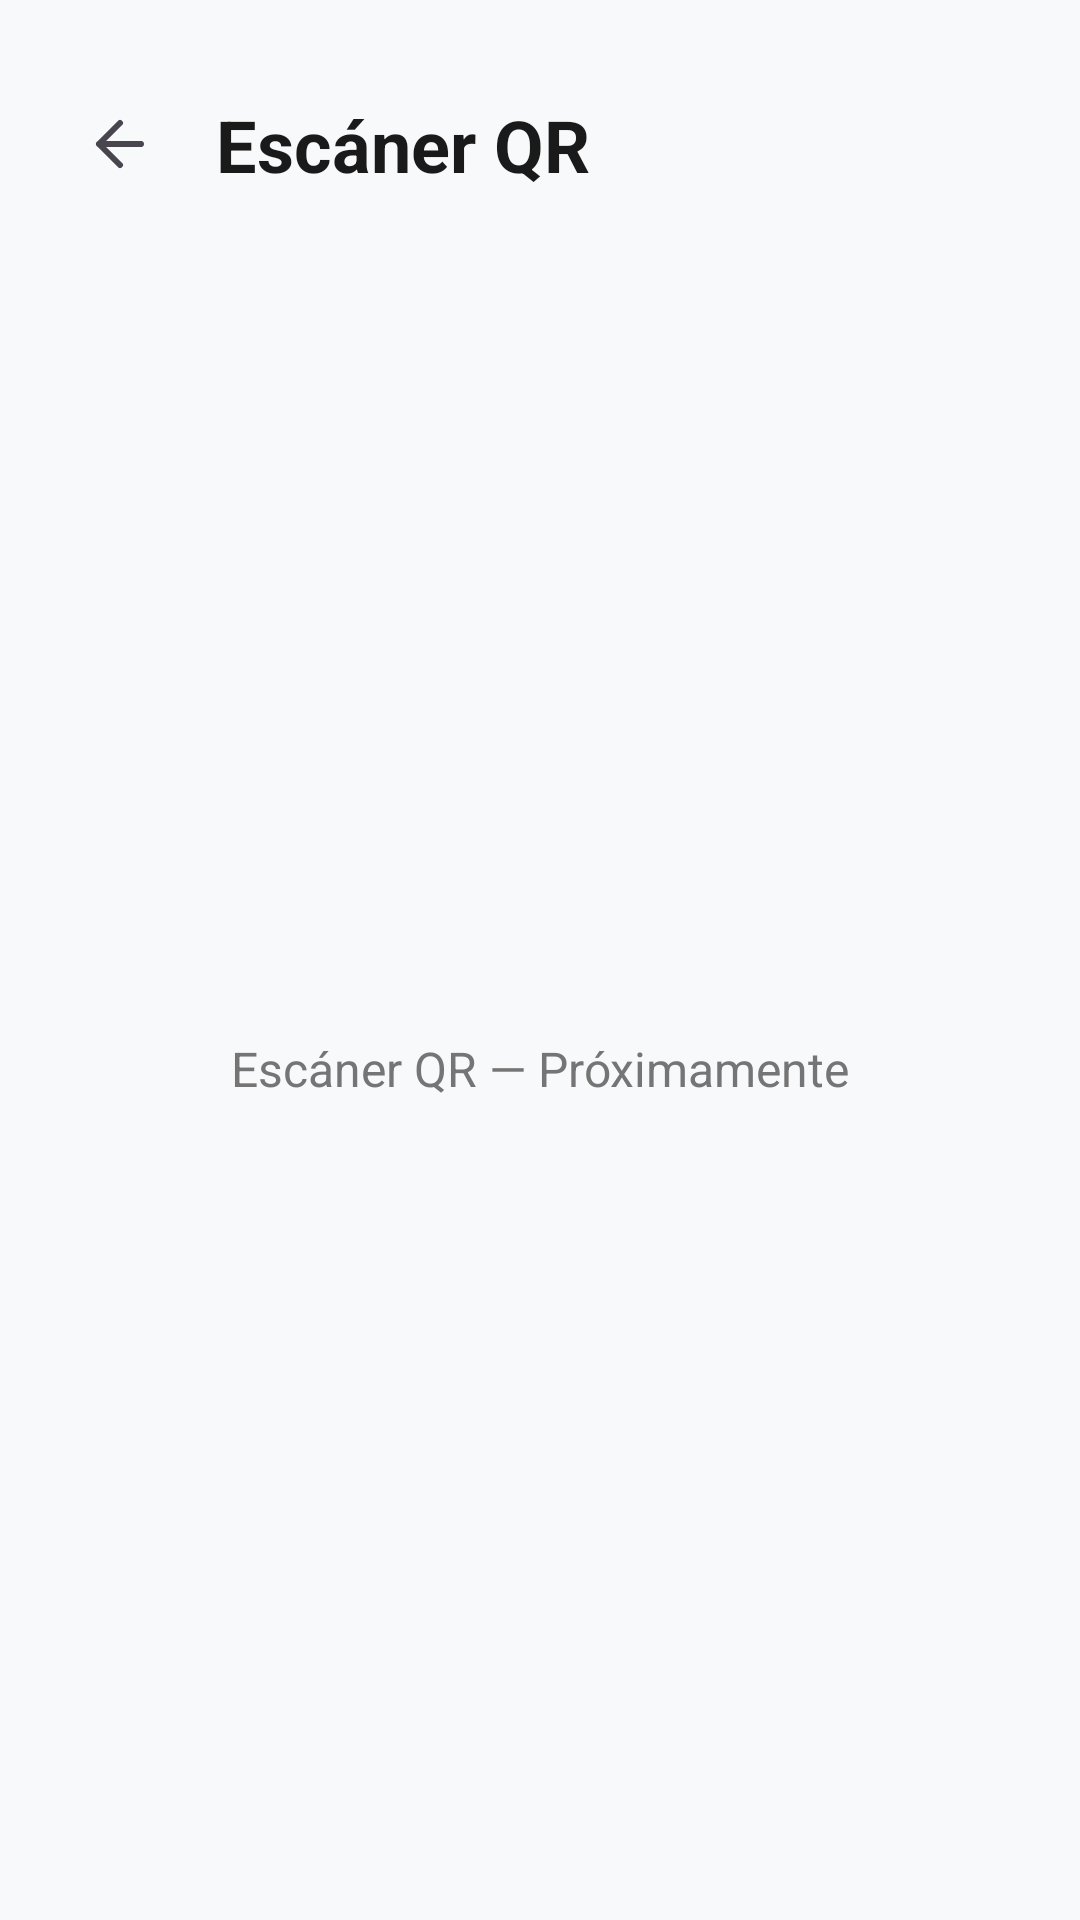

Screen size 1080*1920. Icon name, then its center in pixels as [x,y]:
Volver: [120,144]
